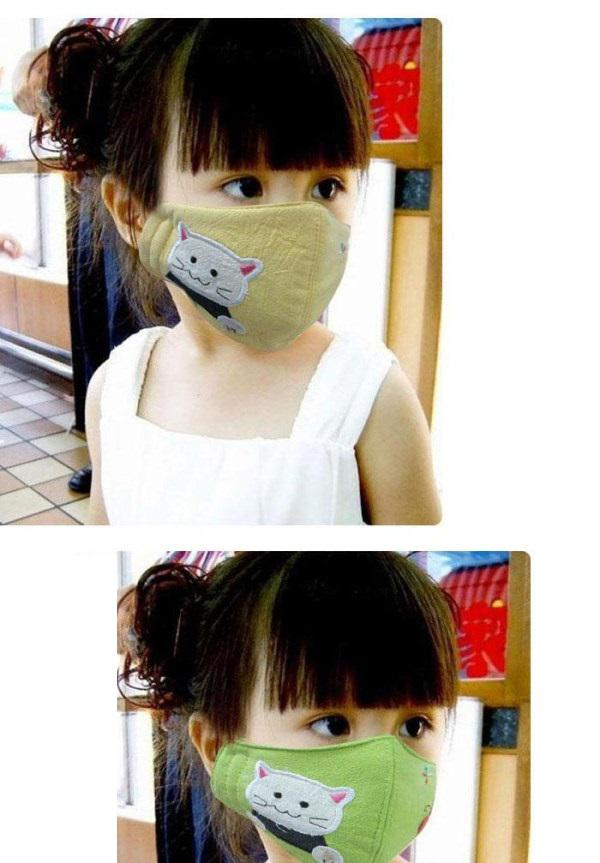OK: (151, 123, 356, 328), (244, 668, 456, 863)
